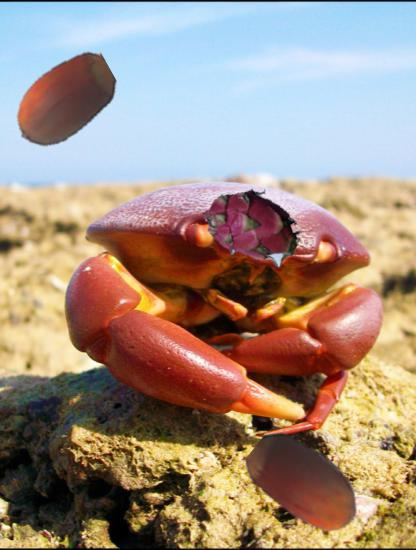Hazelnut: (244, 419, 371, 546), (9, 46, 120, 157)
Pitahaya: (202, 174, 303, 275)
